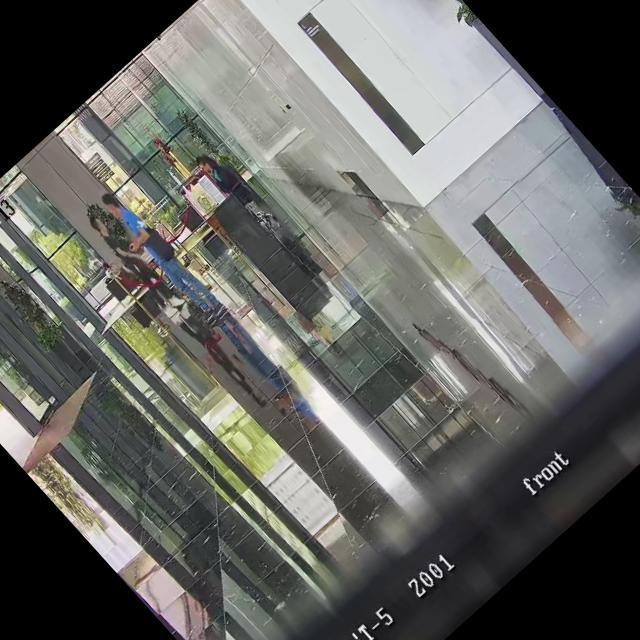person: (90, 182, 230, 332), (82, 204, 188, 317), (192, 147, 248, 206)
